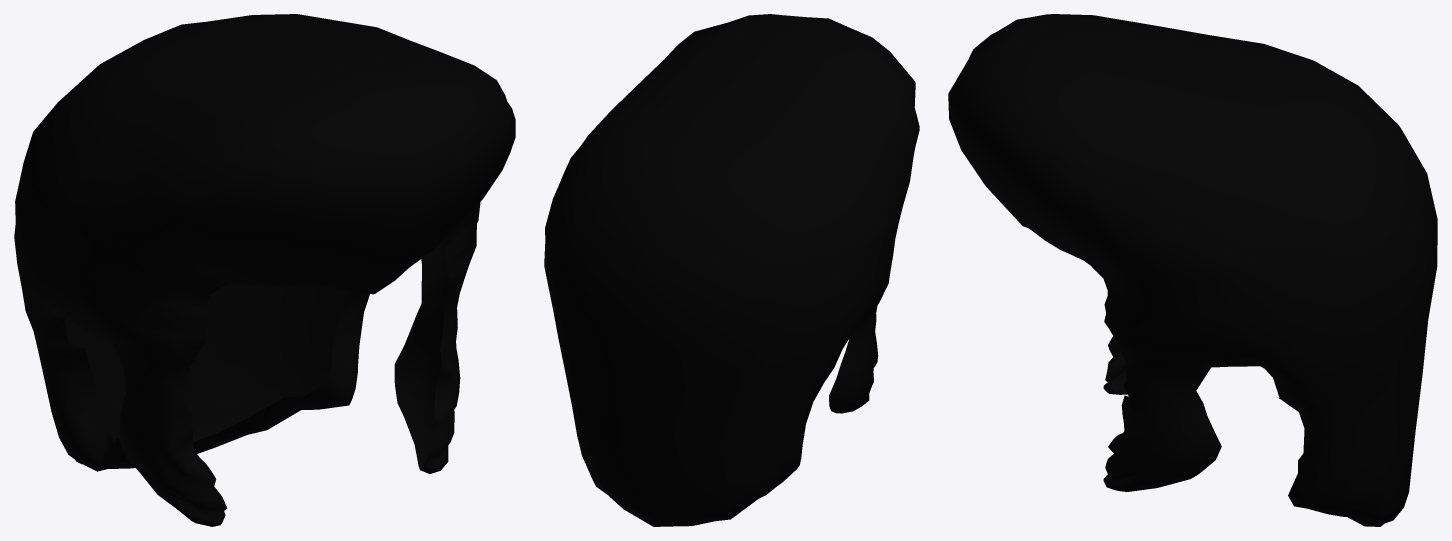
Rendered from SurvivorMale_Head_Wig_Rockstar_LOD0.glb.
3 renders of one model, left to right at view 1: azimuth 30°, elevation 25°; view 2: azimuth 150°, elevation 25°; view 3: azimuth 270°, elevation 25°, orthographic. The views are drawn at different scales.
Visible parts, largest first — view 1: Hoodie; view 2: Hoodie; view 3: Hoodie.
Part boxes in pixels (x1,y1,x2,y2): Hoodie: (14,14,515,526); Hoodie: (544,14,919,526); Hoodie: (948,14,1437,526).
Bounding box in the file's own units: 0.2072 × 0.2569 × 0.241.
Materials: 1 (1 with a texture image).
